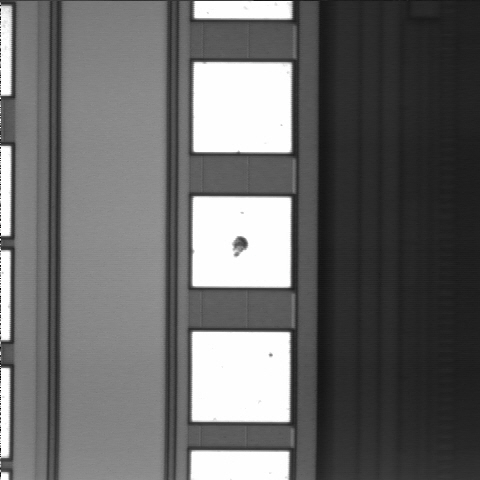pad: (192, 197, 291, 287), (193, 62, 291, 152), (192, 332, 290, 422)
